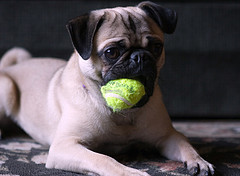tennis ball: (99, 77, 145, 109)
